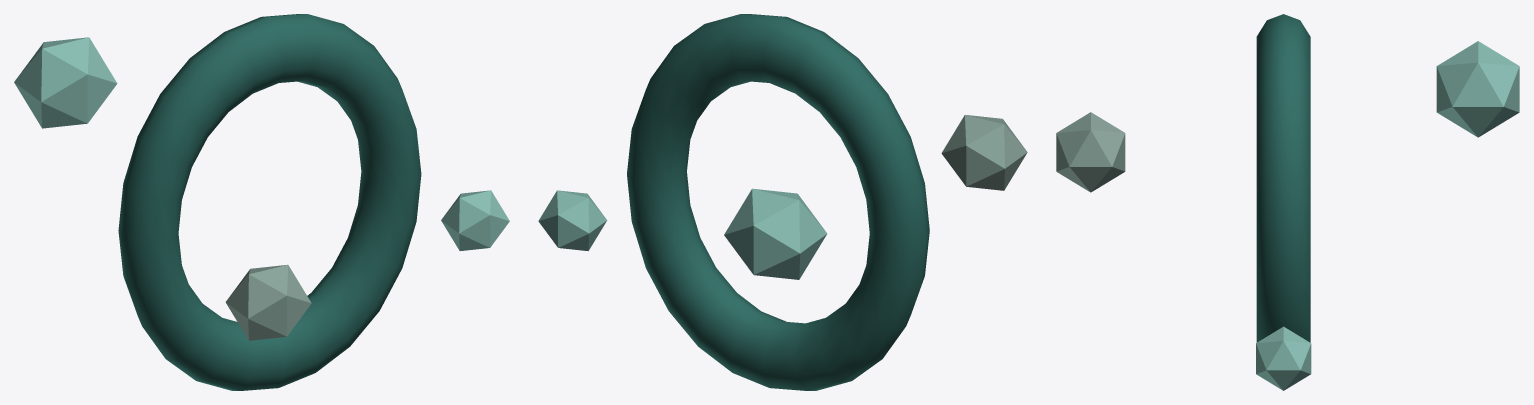
The model's file is landmark.glb.
3 renders of one model, left to right at view 1: azimuth 30°, elevation 25°; view 2: azimuth 150°, elevation 25°; view 3: azimuth 270°, elevation 25°, orthographic. The views are drawn at different scales.
Parts seen in each view (by area): view 1: landmark_core_9, landmark_orbit_2, landmark_orbit_1, landmark_orbit_0; view 2: landmark_core_9, landmark_orbit_2, landmark_orbit_1, landmark_orbit_0; view 3: landmark_core_9, landmark_orbit_2, landmark_orbit_1, landmark_orbit_0.
Boxes of the visible parts, box(x1,y1,x2,y2) form: landmark_core_9: box(118, 14, 421, 390); landmark_orbit_2: box(14, 37, 117, 128); landmark_orbit_1: box(225, 264, 311, 340); landmark_orbit_0: box(441, 190, 509, 250); landmark_core_9: box(627, 14, 929, 390); landmark_orbit_2: box(724, 188, 827, 279); landmark_orbit_1: box(941, 115, 1027, 190); landmark_orbit_0: box(538, 190, 607, 251); landmark_core_9: box(1256, 14, 1310, 342); landmark_orbit_2: box(1436, 41, 1519, 137); landmark_orbit_1: box(1056, 112, 1125, 192); landmark_orbit_0: box(1256, 326, 1311, 390).
Size of what is drawn, in the model's own units: 4.05 by 3.79 by 4.57.
